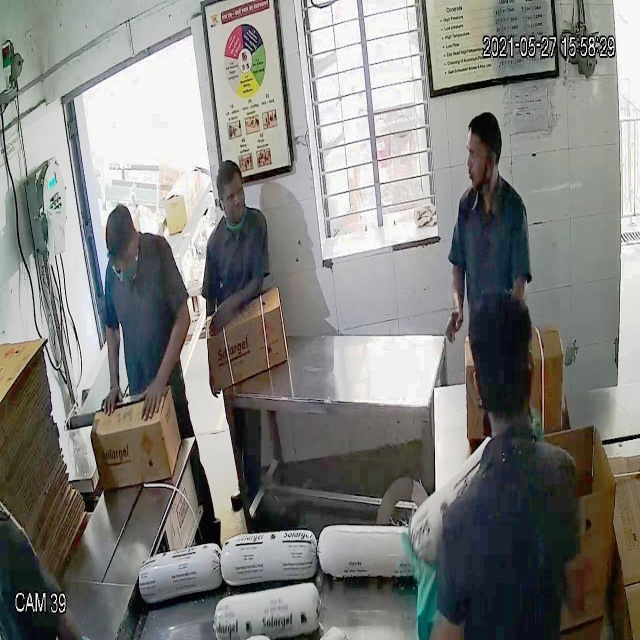Sin_gafas: (462, 142, 500, 172), (215, 185, 249, 209)
